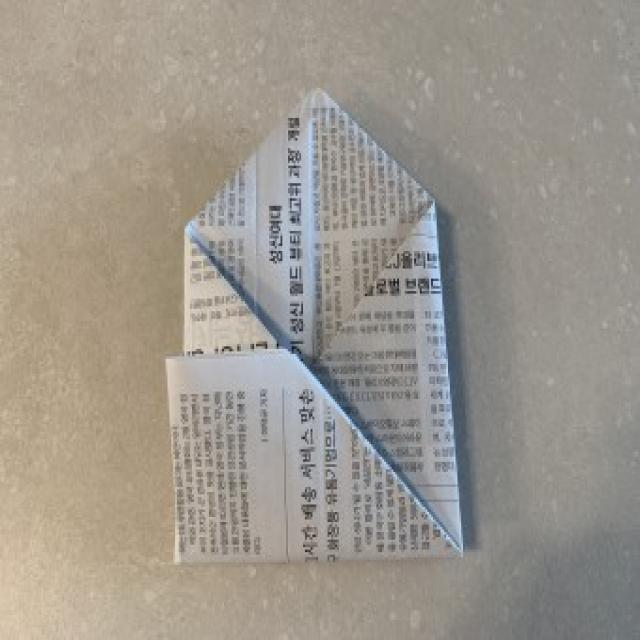Newspaper: (163, 89, 467, 563)
